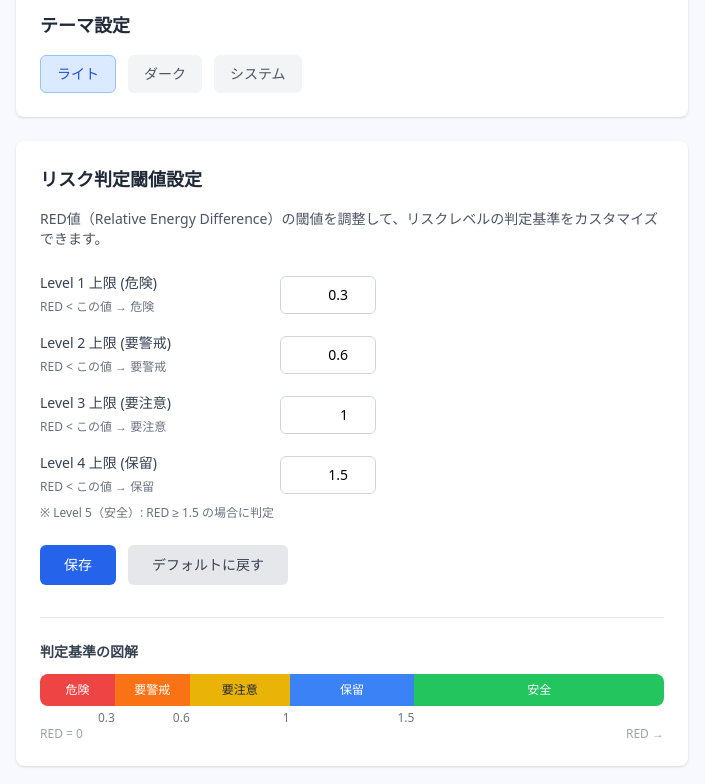
Test: SettingsView › 「デフォルトに戻す」でデフォルト値にリセット
What coordinates should you click on to do the following:
click the button "デフォルトに戻す"
I would click on:
 (208, 565)
Its box is [128, 545, 288, 585].
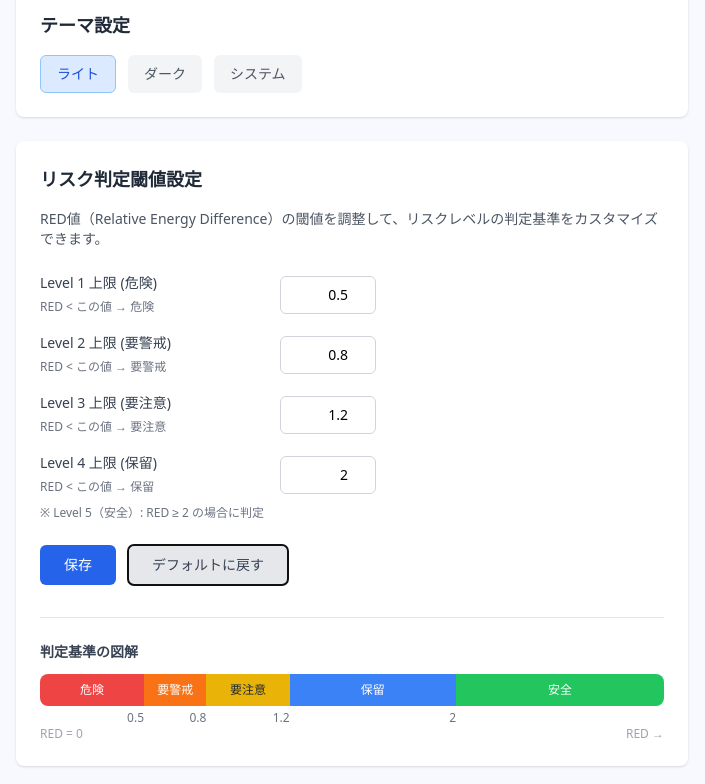
Check: the number field next to "Level 1 上限 (危険)" holds "0.5", box [280, 276, 376, 314]
Check: the number field next to "Level 2 上限 (要警戒)" holds "0.8", box [280, 336, 376, 374]
Check: the number field next to "Level 3 上限 (要注意)" holds "1.2", box [280, 396, 376, 434]
